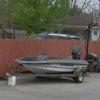Boat: (12, 50, 94, 89)
